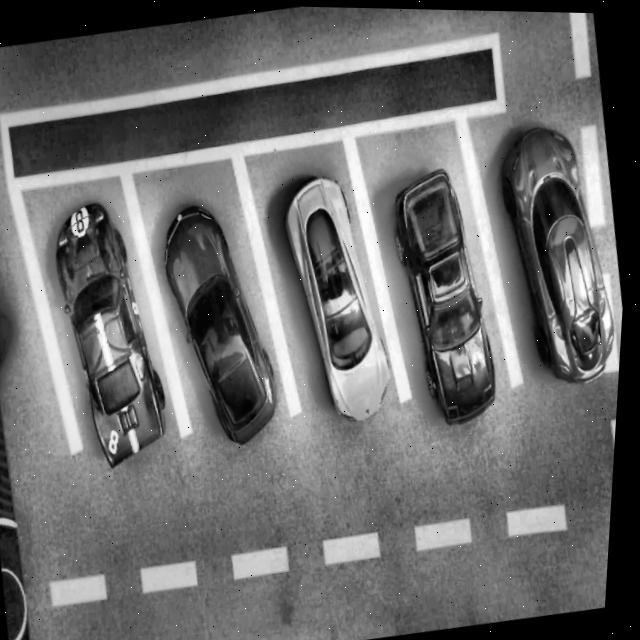car: (39, 191, 189, 473), (485, 113, 635, 391), (149, 192, 298, 453), (379, 158, 516, 430), (271, 165, 412, 427)
